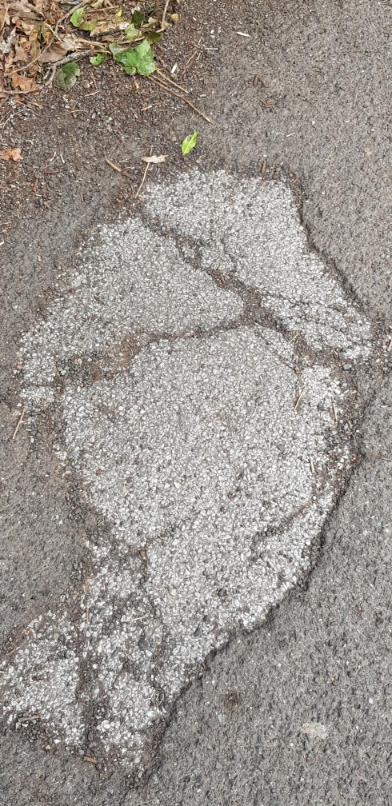pothole: (0, 139, 387, 793)
